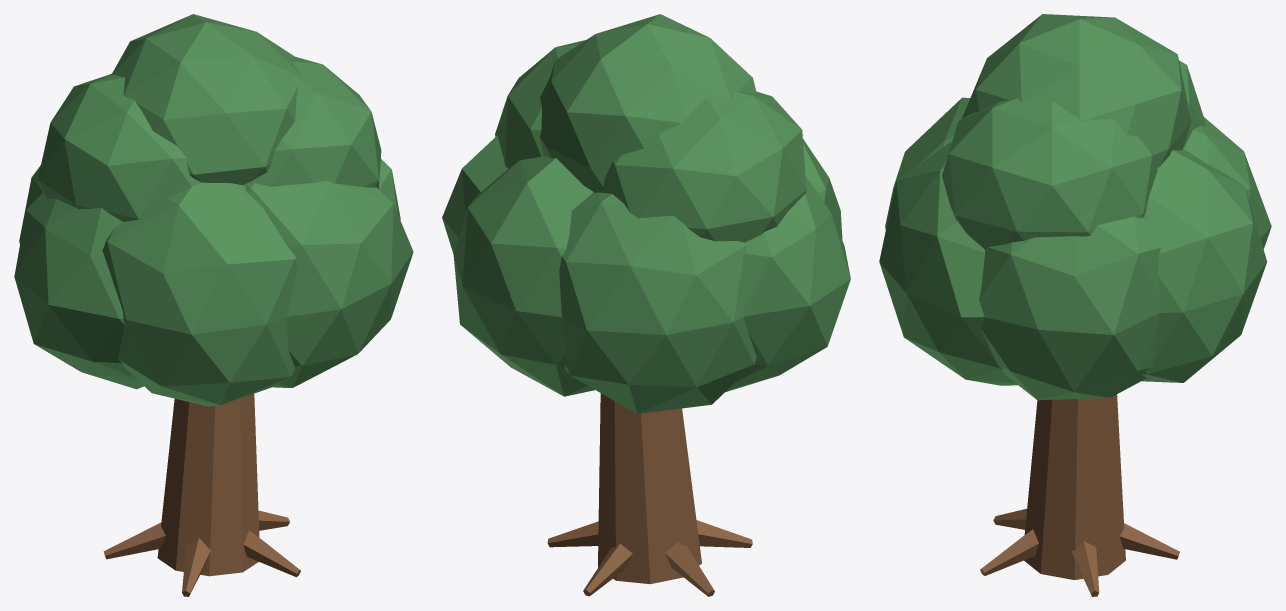
File: arvore_jovem.glb
The picture shows the model from 3 angles, left to right: view 1: azimuth 30°, elevation 25°; view 2: azimuth 150°, elevation 25°; view 3: azimuth 270°, elevation 25°; orthographic projection.
Visible parts, largest first — view 1: bosque_arvore_jovem; view 2: bosque_arvore_jovem; view 3: bosque_arvore_jovem.
Boxes of the visible parts, x1,y1,x2,y2 form: bosque_arvore_jovem: (14, 14, 413, 596); bosque_arvore_jovem: (442, 14, 850, 596); bosque_arvore_jovem: (879, 14, 1271, 596).
Size of the model in its own units: 1.13 by 1.58 by 1.04.
